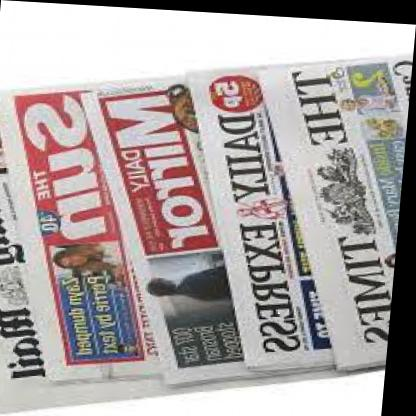Paper: (0, 40, 413, 416)
